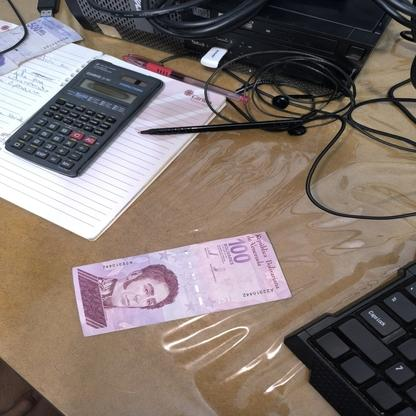vef_front: (72, 230, 292, 338)
